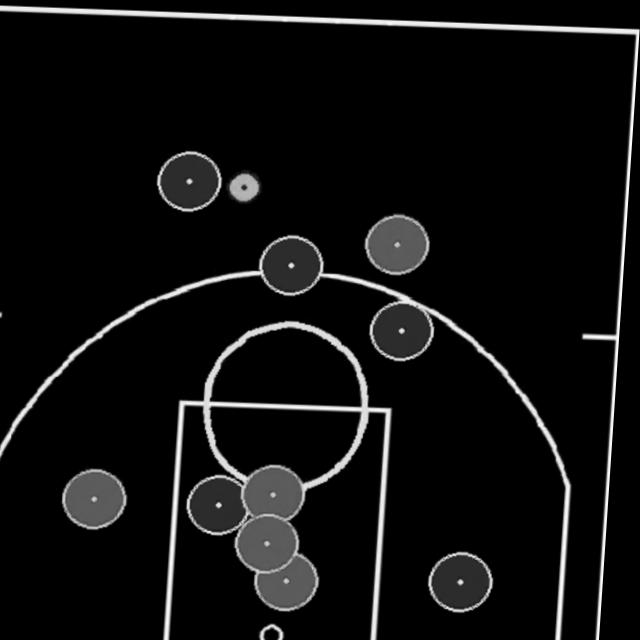Basketball: (228, 167, 266, 203)
Team_A: (191, 472, 259, 534), (159, 149, 227, 211), (372, 297, 440, 359), (261, 233, 329, 294), (435, 548, 503, 609)
Team_B: (259, 548, 327, 610), (67, 468, 135, 530), (246, 458, 314, 520), (241, 510, 309, 572), (366, 211, 435, 272)
